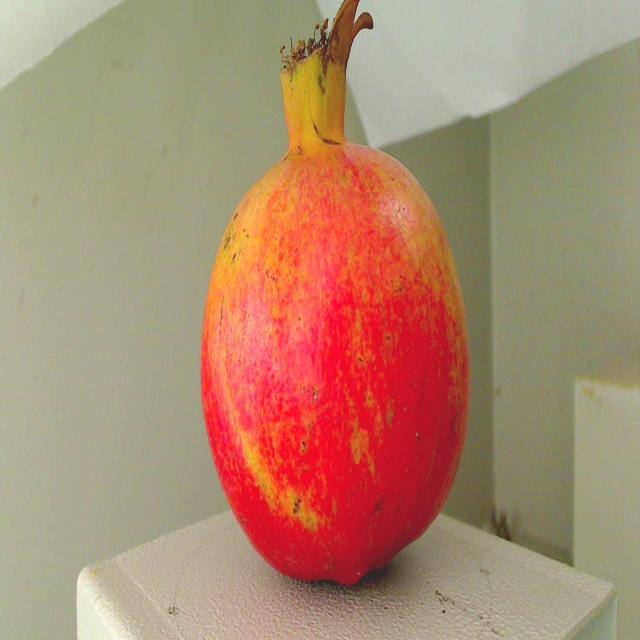pomegranate: (200, 14, 477, 576)
